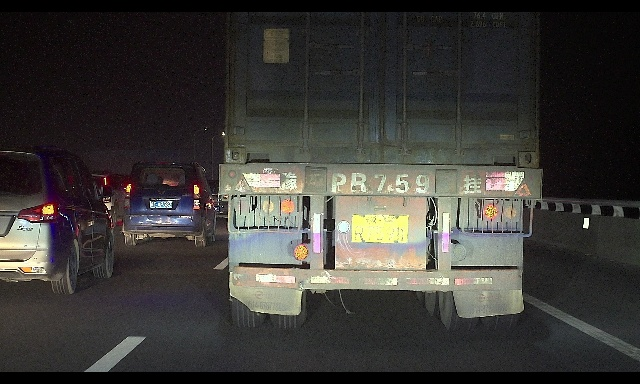car: (0, 145, 114, 295), (121, 161, 219, 247), (71, 169, 132, 228), (199, 179, 235, 221)
truck: (218, 12, 540, 332)
